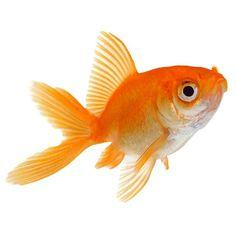goldfish: (52, 54, 232, 179)
